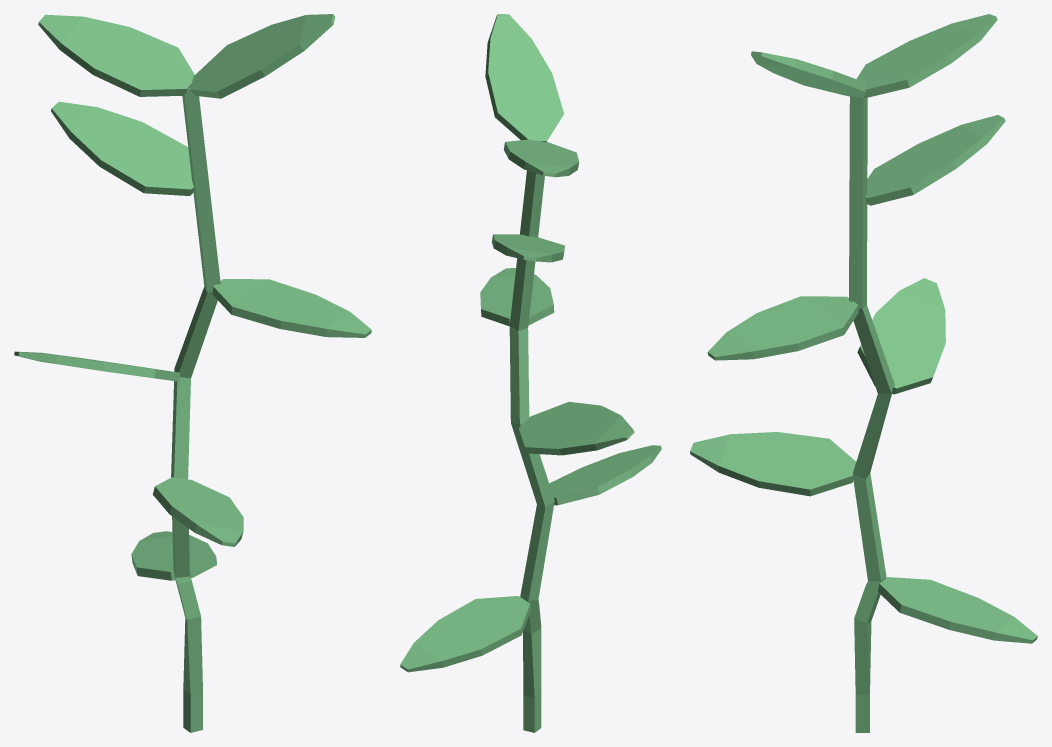
The model's file is plant.gltf.
The picture shows the model from 3 angles, left to right: view 1: azimuth 30°, elevation 25°; view 2: azimuth 150°, elevation 25°; view 3: azimuth 270°, elevation 25°; orthographic projection. The views are drawn at different scales.
Visible parts, largest first — view 1: Cube; view 2: Cube; view 3: Cube.
Part boxes in pixels (box(x1,y1,x2,y2)): Cube: box(14, 14, 371, 732); Cube: box(400, 14, 661, 732); Cube: box(690, 14, 1037, 732).
Size of the model in its own units: 2.23 by 6.28 by 2.75.
Materials: 1 (1 with a texture image).
